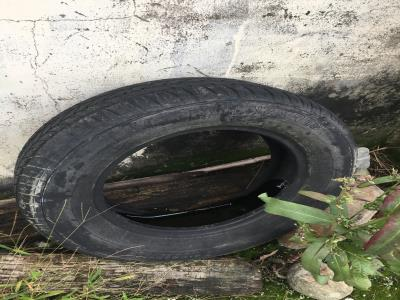tire: (8, 75, 357, 265)
